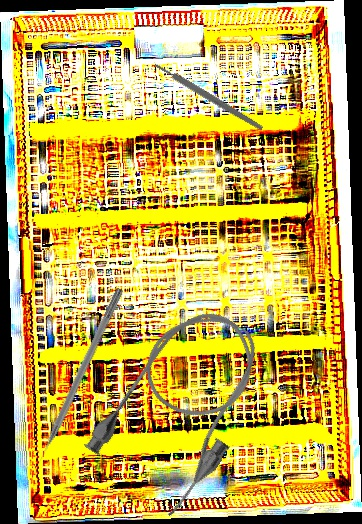Cannula: (76, 290, 289, 524)
Pusher: (28, 286, 125, 475)
Scalpel Handle: (153, 61, 264, 132)
